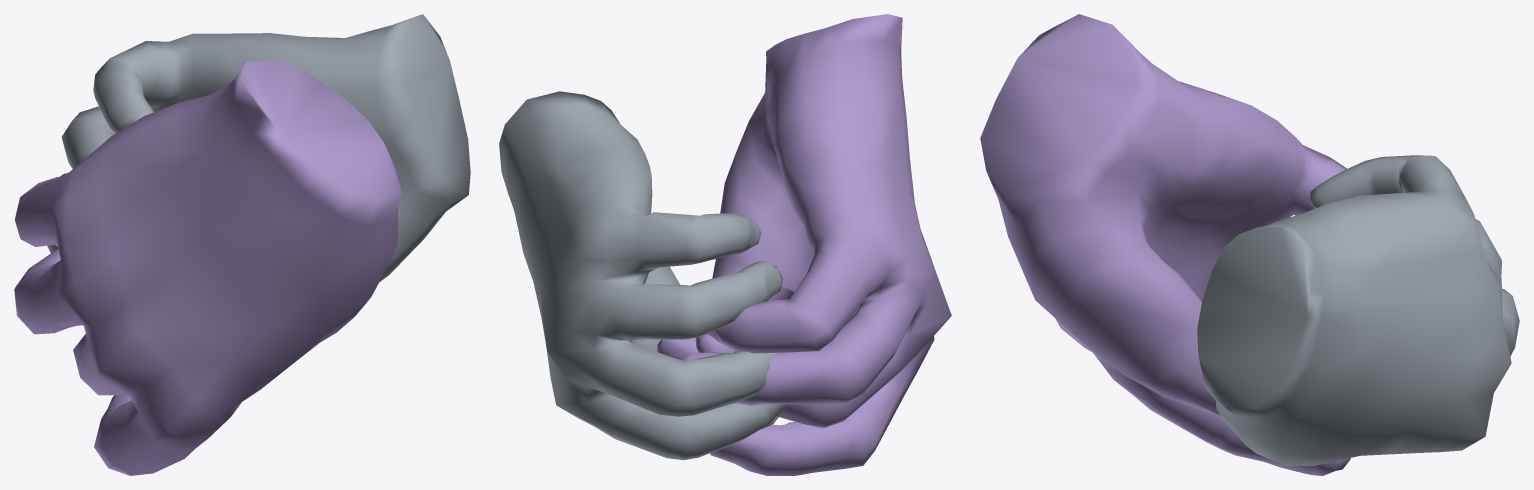
The model's file is pred_1.glb.
3 renders of one model, left to right at view 1: azimuth 30°, elevation 25°; view 2: azimuth 150°, elevation 25°; view 3: azimuth 270°, elevation 25°, orthographic. The views are drawn at different scales.
Bounding box in the file's own units: 0.1527 × 0.1481 × 0.1606.
